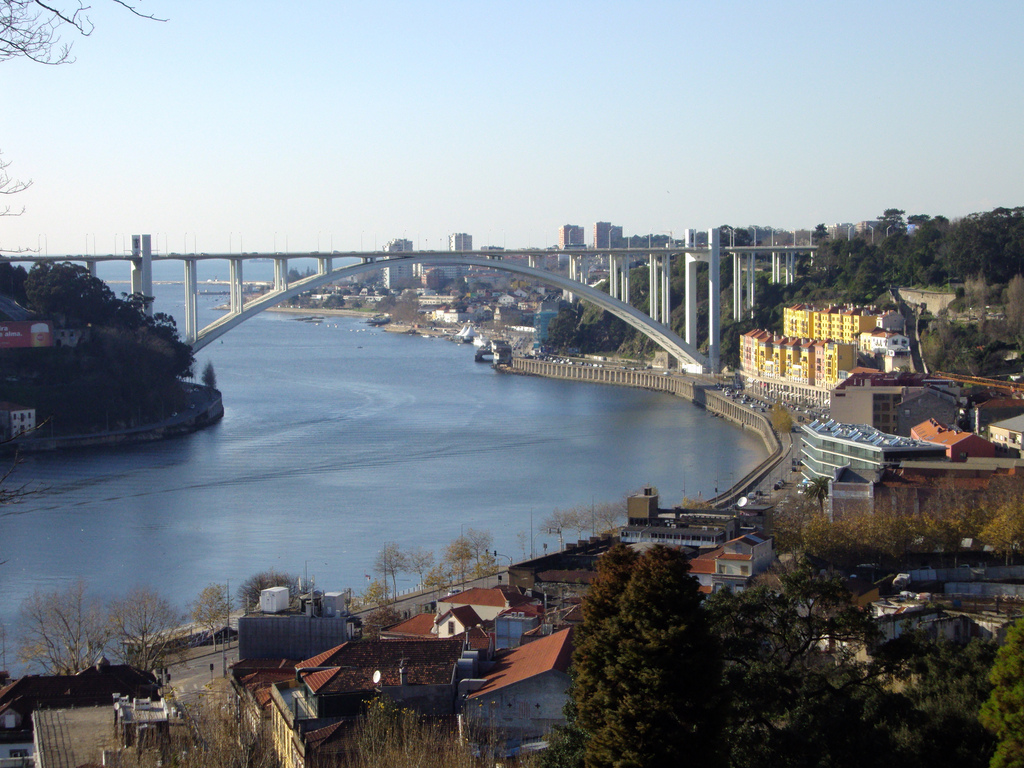arrabida: (43, 224, 815, 379)
